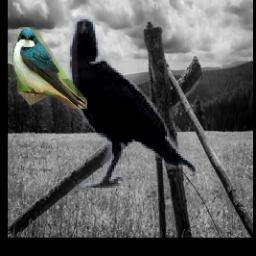Crow: (67, 16, 197, 189)
Swallow: (12, 28, 87, 110)
